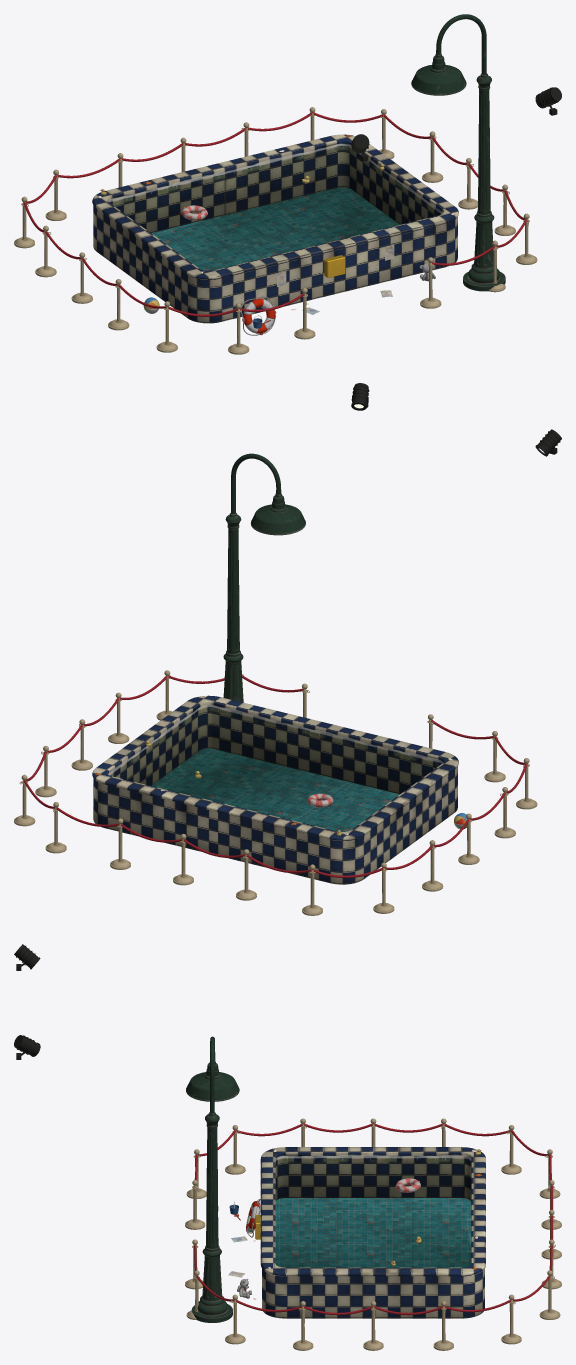
File: sala_vasca_centrale.glb
3 renders of one model, top to bottom at view 1: azimuth 30°, elevation 25°; view 2: azimuth 150°, elevation 25°; view 3: azimuth 270°, elevation 25°, orthographic. The views are drawn at different scales.
Parts seen in each view (by area): view 1: sala_vasca_centrale, amb_lampione, sala_vasca_cordone, sala_vasca_centrale_calcare, sala_monumento_fari, ogg_salvagente_nave_36, sala_vasca_offerte; view 2: sala_vasca_centrale, amb_lampione, sala_vasca_cordone, sala_vasca_centrale_calcare, sala_monumento_fari; view 3: sala_vasca_centrale, amb_lampione, sala_vasca_cordone, sala_vasca_centrale_calcare, sala_monumento_fari.
Boxes of the visible parts, x1=… form: sala_vasca_centrale: x1=92, y1=134, x2=458, y2=323; amb_lampione: x1=411, y1=14, x2=505, y2=291; sala_vasca_cordone: x1=23, y1=112, x2=528, y2=316; sala_vasca_centrale_calcare: x1=108, y1=143, x2=442, y2=213; sala_monumento_fari: x1=351, y1=87, x2=561, y2=161; ogg_salvagente_nave_36: x1=241, y1=296, x2=276, y2=335; sala_vasca_offerte: x1=98, y1=134, x2=454, y2=328; sala_vasca_centrale: x1=92, y1=695, x2=458, y2=884; amb_lampione: x1=223, y1=453, x2=305, y2=702; sala_vasca_cordone: x1=23, y1=675, x2=528, y2=877; sala_vasca_centrale_calcare: x1=108, y1=705, x2=443, y2=775; sala_monumento_fari: x1=351, y1=383, x2=561, y2=456; sala_vasca_centrale: x1=255, y1=1147, x2=485, y2=1318; amb_lampione: x1=186, y1=1036, x2=239, y2=1322; sala_vasca_cordone: x1=193, y1=1123, x2=553, y2=1315; sala_vasca_centrale_calcare: x1=275, y1=1154, x2=471, y2=1164; sala_monumento_fari: x1=14, y1=944, x2=40, y2=1059.
Size of what is drawn, in the model's own units: 9.01 by 6.17 by 10.91.
Materials: 22 (18 with a texture image).
